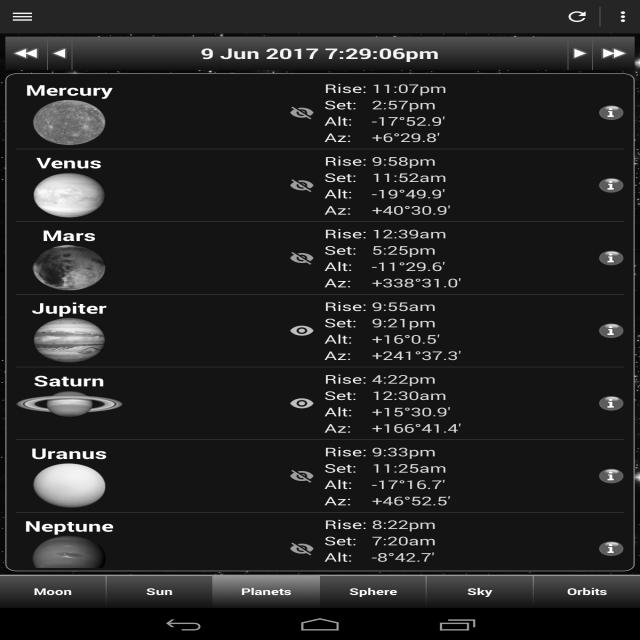ImageButton: (5, 37, 47, 70), (593, 37, 635, 70), (5, 0, 39, 33), (560, 0, 594, 33), (606, 0, 640, 33), (48, 37, 71, 70), (569, 37, 592, 70), (598, 250, 624, 266), (598, 468, 624, 484), (598, 105, 624, 120), (598, 178, 624, 193), (598, 323, 624, 338), (598, 396, 624, 411), (598, 541, 624, 556)
ImageView: (16, 172, 123, 218), (16, 245, 123, 291), (16, 463, 123, 509), (16, 100, 123, 145), (16, 318, 123, 363), (16, 536, 123, 581), (16, 390, 123, 418), (285, 247, 319, 269), (285, 465, 319, 487), (285, 102, 319, 123), (285, 175, 319, 196), (285, 320, 319, 341), (285, 393, 319, 414), (285, 538, 319, 559)
TextView: (200, 37, 325, 70), (325, 37, 405, 70), (24, 516, 114, 536), (26, 80, 112, 100), (31, 443, 107, 463), (372, 225, 461, 242), (372, 274, 461, 291), (372, 314, 461, 331), (372, 403, 461, 420), (32, 298, 106, 318), (372, 242, 461, 258), (372, 258, 461, 274), (372, 298, 461, 314), (372, 331, 461, 347), (372, 347, 461, 363), (372, 371, 461, 387), (372, 387, 461, 403), (372, 420, 461, 436), (372, 185, 451, 202), (372, 443, 451, 460), (372, 492, 451, 509), (372, 532, 451, 549), (34, 371, 104, 390), (372, 96, 447, 113), (372, 153, 451, 169), (372, 169, 451, 185), (372, 202, 451, 218), (372, 460, 451, 476), (372, 476, 451, 492), (372, 516, 451, 532), (372, 549, 451, 565), (372, 565, 451, 581), (36, 153, 102, 172), (372, 80, 447, 96), (372, 113, 447, 129), (372, 129, 447, 145), (405, 37, 439, 70), (42, 225, 96, 245), (324, 96, 372, 113), (324, 185, 372, 202), (324, 225, 372, 242), (324, 274, 372, 291), (324, 314, 372, 331), (324, 403, 372, 420), (324, 443, 372, 460), (324, 492, 372, 509), (324, 532, 372, 549), (324, 80, 372, 96), (324, 113, 372, 129), (324, 129, 372, 145), (324, 153, 372, 169), (324, 169, 372, 185), (324, 202, 372, 218), (324, 242, 372, 258), (324, 258, 372, 274), (324, 298, 372, 314), (324, 331, 372, 347), (324, 347, 372, 363), (324, 371, 372, 387), (324, 387, 372, 403), (324, 420, 372, 436), (324, 460, 372, 476), (324, 476, 372, 492), (324, 516, 372, 532), (324, 549, 372, 565), (324, 565, 372, 581), (241, 585, 291, 598), (349, 585, 397, 598), (567, 585, 607, 598), (34, 585, 72, 598), (146, 585, 173, 598), (467, 585, 492, 598)
